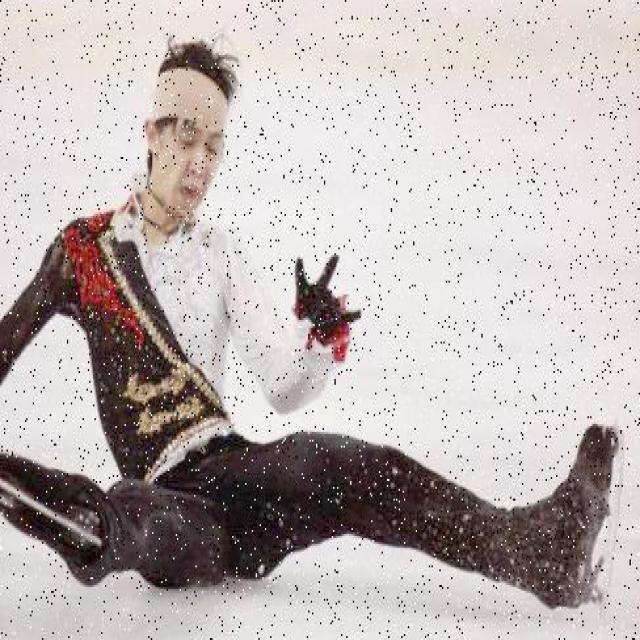fall: (1, 41, 608, 606)
